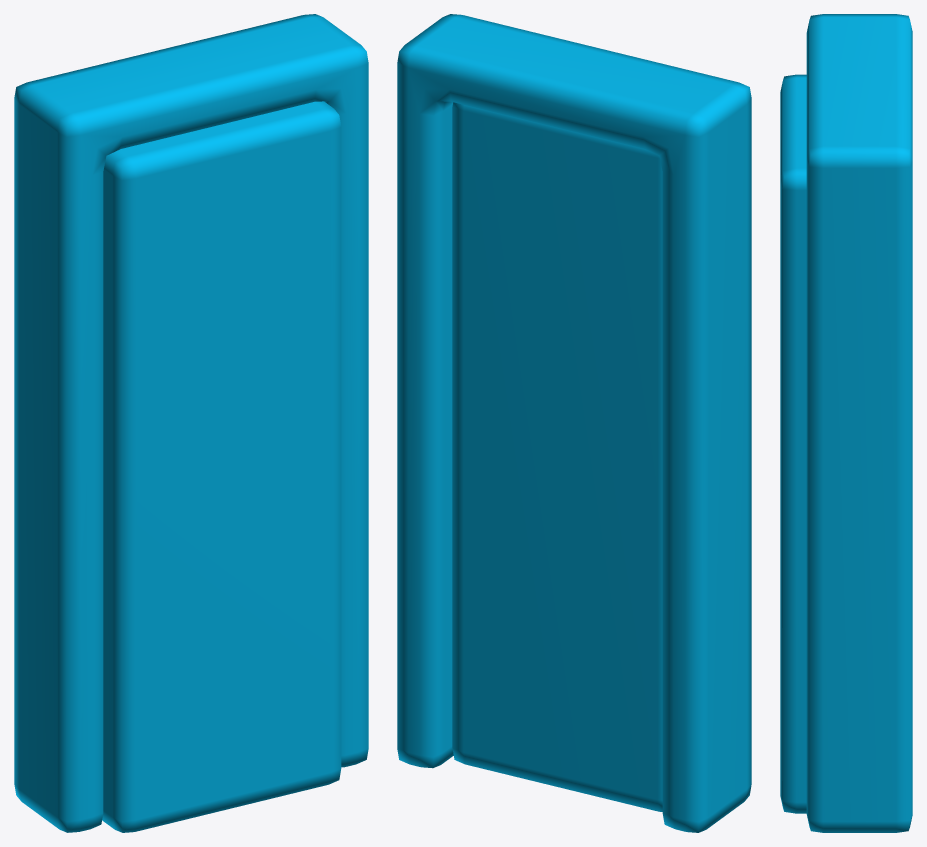
The model's file is SM_Clay_Door_05.fbx.
3 renders of one model, left to right at view 1: azimuth 30°, elevation 25°; view 2: azimuth 150°, elevation 25°; view 3: azimuth 270°, elevation 25°, orthographic. The views are drawn at different scales.
Visible parts, largest first — view 1: SM_Clay_Door_05; view 2: SM_Clay_Door_05; view 3: SM_Clay_Door_05.
Boxes of the visible parts, left/top/right/bottom form: SM_Clay_Door_05: left=14, top=14, right=368, bottom=832; SM_Clay_Door_05: left=397, top=14, right=751, bottom=832; SM_Clay_Door_05: left=780, top=14, right=912, bottom=832.
Size of the model in its own units: 0.2927 by 0.653 by 0.1148.
